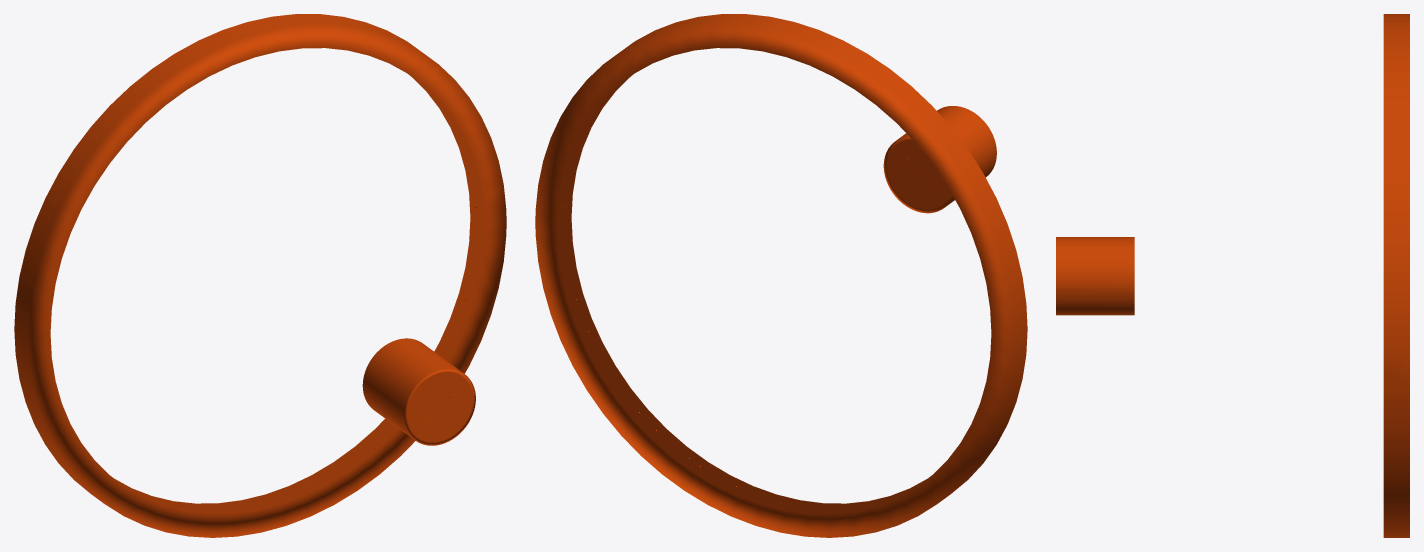
File: Magnetic Coils.obj
The picture shows the model from 3 angles, left to right: view 1: azimuth 30°, elevation 25°; view 2: azimuth 150°, elevation 25°; view 3: azimuth 270°, elevation 25°; orthographic projection. The views are drawn at different scales.
Parts seen in each view (by area): view 1: Magnetic_Coils; view 2: Magnetic_Coils; view 3: Magnetic_Coils.
Part boxes in pixels (<box>): Magnetic_Coils: <box>14,14,506,537</box>; Magnetic_Coils: <box>535,14,1027,537</box>; Magnetic_Coils: <box>1056,14,1409,537</box>.
Size of the model in its own units: 140 by 140 by 94.5.
